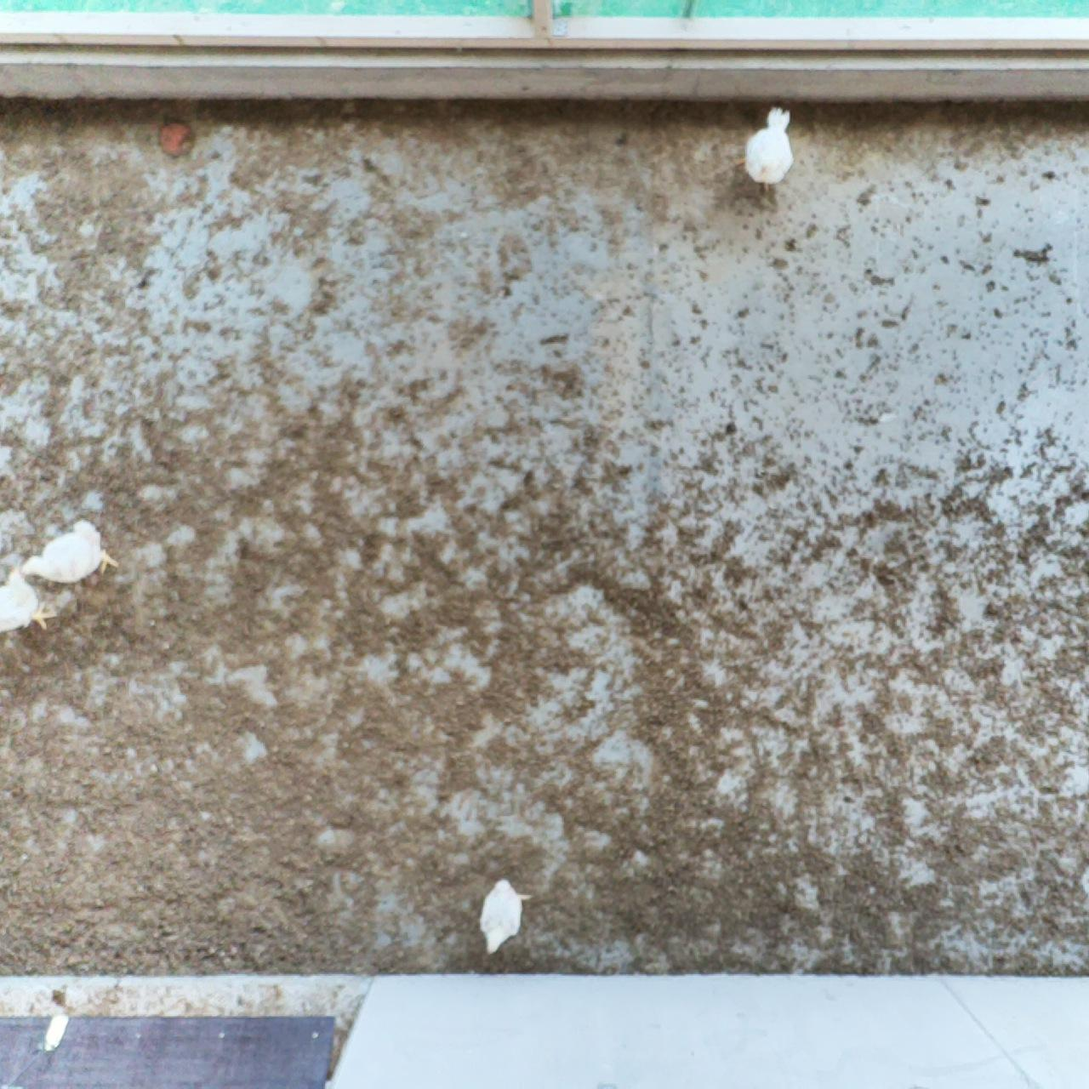chicken: (20, 518, 123, 591), (740, 103, 798, 194), (476, 876, 535, 957), (0, 563, 58, 636)
